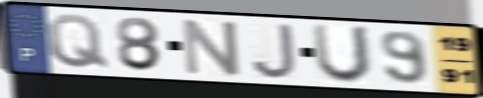8: (114, 15, 163, 74)
9: (378, 29, 431, 86)
J: (250, 22, 299, 81)
N: (180, 16, 243, 78)
Q: (44, 12, 112, 71)
U: (309, 22, 374, 86)
